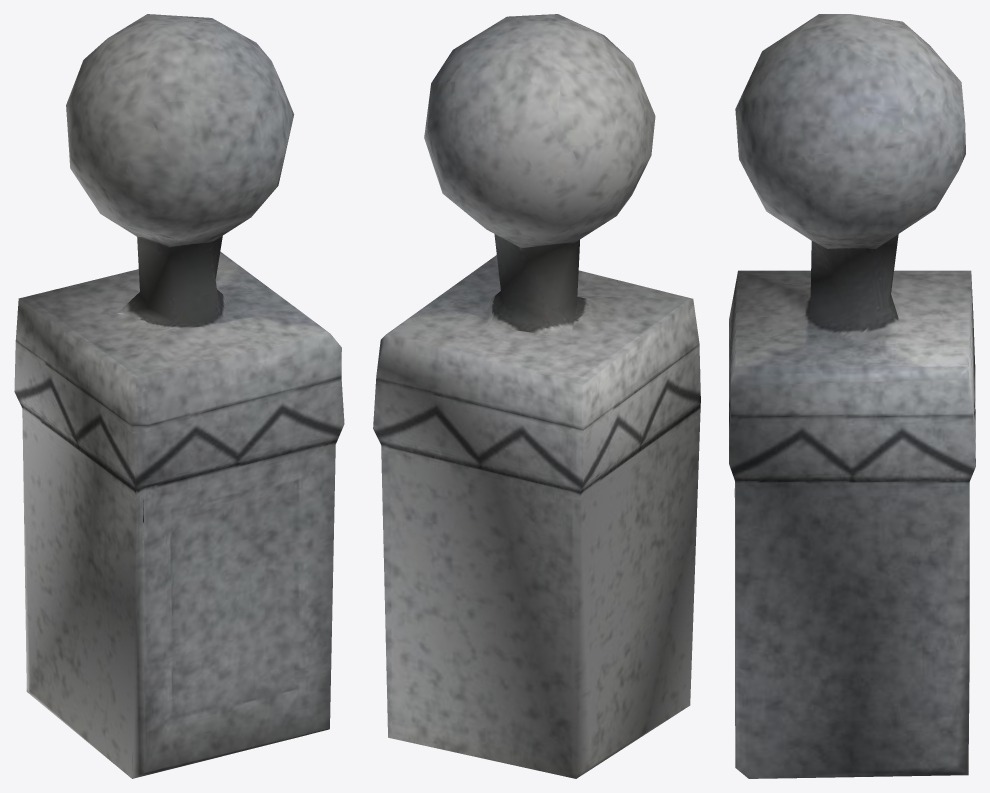
The model's file is post_square_e_far.glb.
3 views of the same model, side by side, from view 1: azimuth 30°, elevation 25°; view 2: azimuth 150°, elevation 25°; view 3: azimuth 270°, elevation 25° (orthographic).
Parts seen in each view (by area): view 1: post_square_e_lod1; view 2: post_square_e_lod1; view 3: post_square_e_lod1.
Part boxes in pixels (x1=…): post_square_e_lod1: x1=14, y1=14, x2=344, y2=778; post_square_e_lod1: x1=373, y1=14, x2=700, y2=778; post_square_e_lod1: x1=729, y1=14, x2=975, y2=778.
Size of the model in its own units: 0.2826 by 0.8936 by 0.2831.
Materials: 1 (1 with a texture image).
